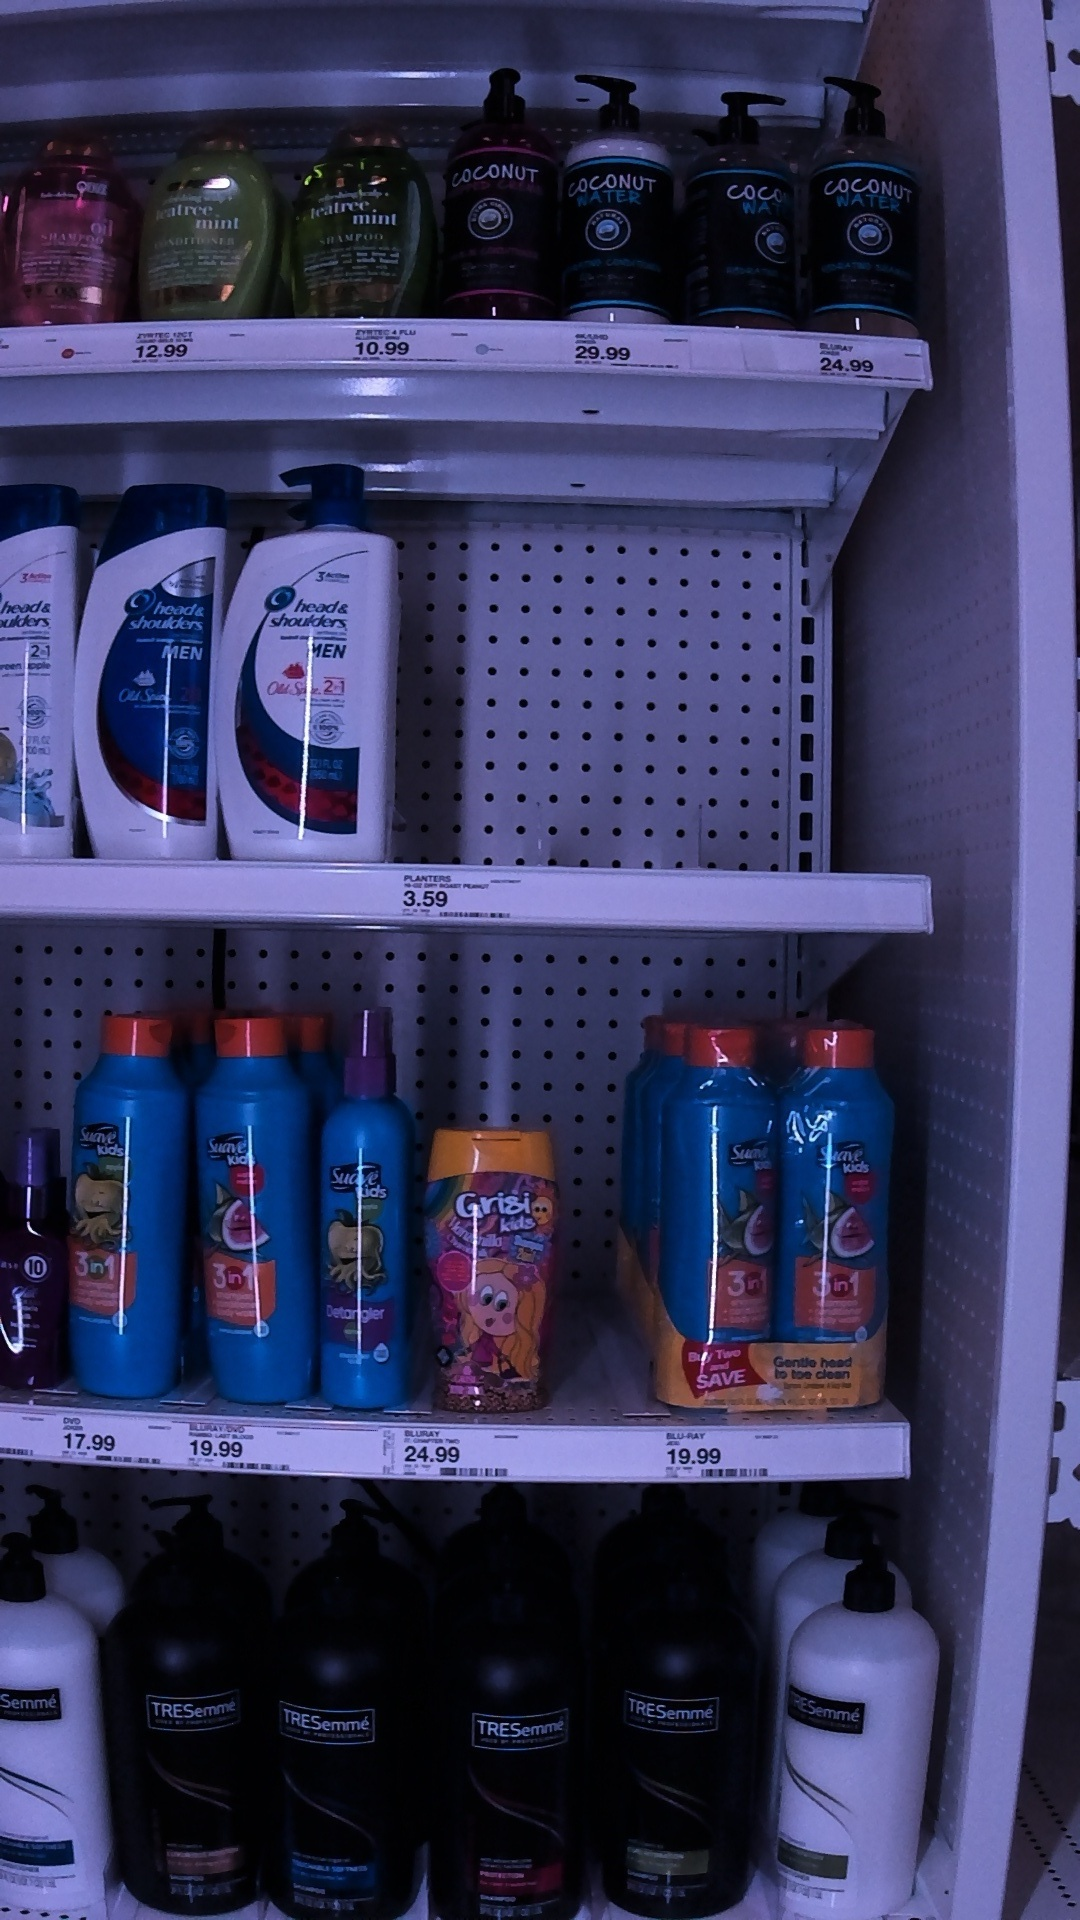ptag: (393, 855, 518, 924), (396, 1425, 526, 1491), (658, 1431, 793, 1493), (566, 316, 694, 380), (182, 1411, 298, 1480), (58, 1404, 164, 1476), (806, 334, 926, 392), (344, 322, 469, 373), (127, 324, 218, 373)
